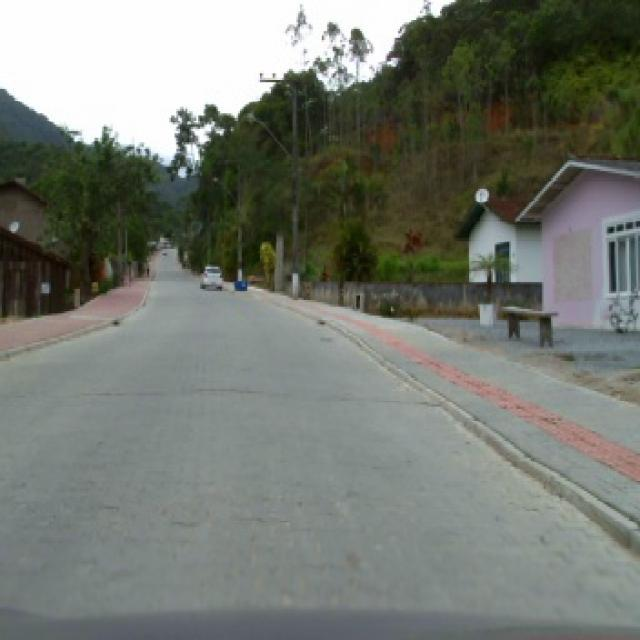Poth-hole: (314, 318, 326, 324), (109, 318, 118, 324)
